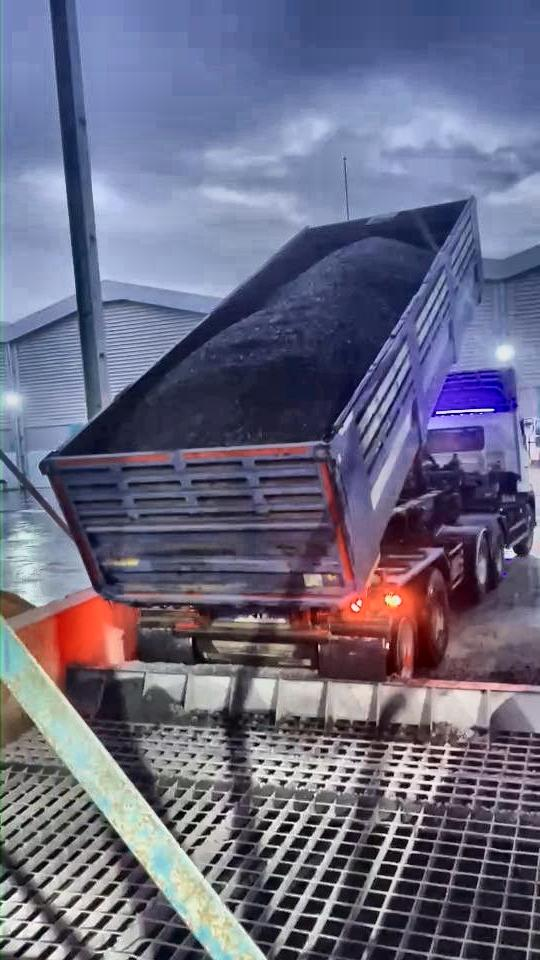gravel: (108, 237, 433, 451)
